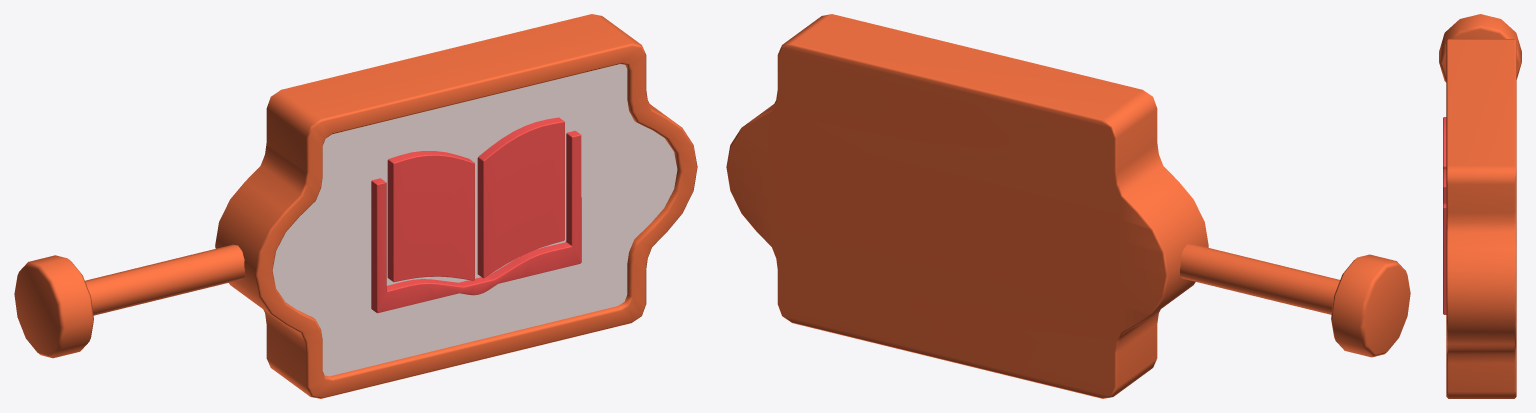
File: Store_7_Book_Shop_Sign_1.glb
3 renders of one model, left to right at view 1: azimuth 30°, elevation 25°; view 2: azimuth 150°, elevation 25°; view 3: azimuth 270°, elevation 25°, orthographic. The views are drawn at different scales.
Visible parts, largest first — view 1: Store_7_Book_Shop_Sign_1; view 2: Store_7_Book_Shop_Sign_1; view 3: Store_7_Book_Shop_Sign_1.
Part boxes in pixels (x1,y1,x2,y2): Store_7_Book_Shop_Sign_1: (14,14,697,398); Store_7_Book_Shop_Sign_1: (726,14,1410,398); Store_7_Book_Shop_Sign_1: (1439,14,1521,398).
Bounding box in the file's own units: 2.06 × 0.8593 × 0.277.
1 material, 1 textured.
